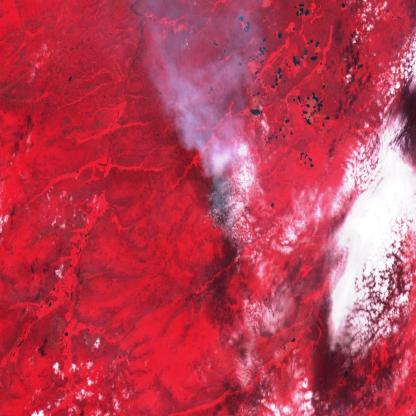fire: (206, 168, 240, 240)
